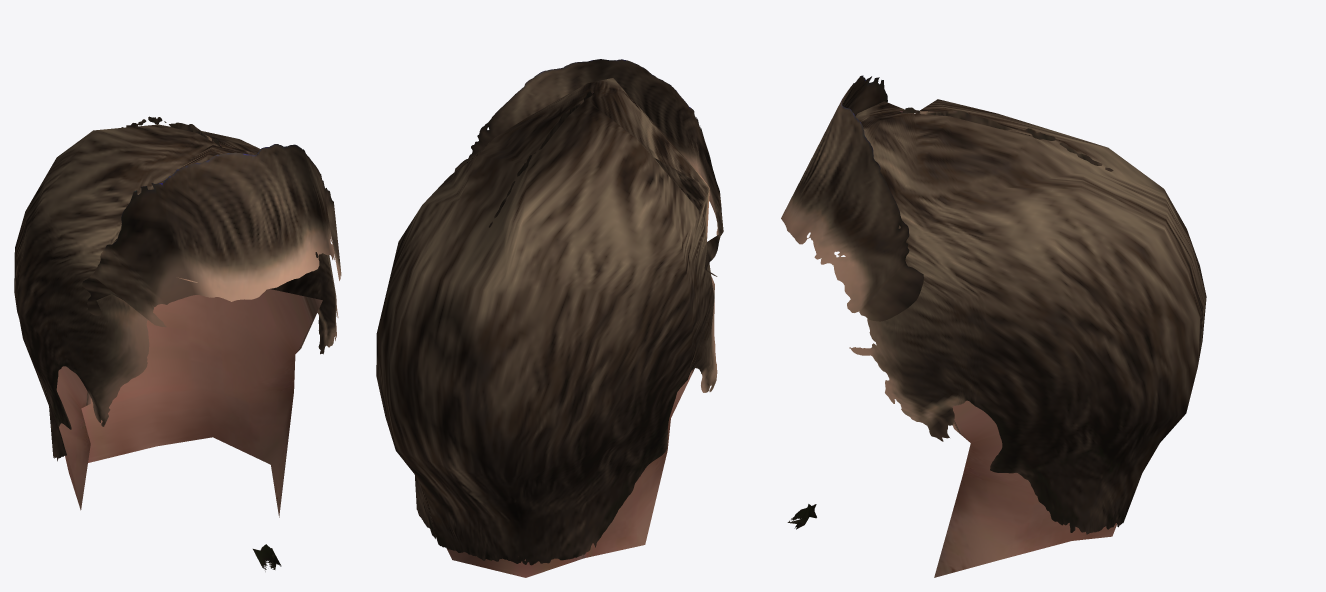
Rendered from eng-kane.glb.
3 renders of one model, left to right at view 1: azimuth 30°, elevation 25°; view 2: azimuth 150°, elevation 25°; view 3: azimuth 270°, elevation 25°, orthographic. The views are drawn at different scales.
Parts seen in each view (by area): view 1: hair; view 2: hair; view 3: hair.
Part boxes in pixels (left/top/right/bottom): hair: left=14, top=116, right=341, bottom=571; hair: left=376, top=59, right=723, bottom=577; hair: left=781, top=75, right=1206, bottom=577.
Bounding box in the file's own units: 0.1761 × 0.2942 × 0.2789.
2 materials, 2 textured.
